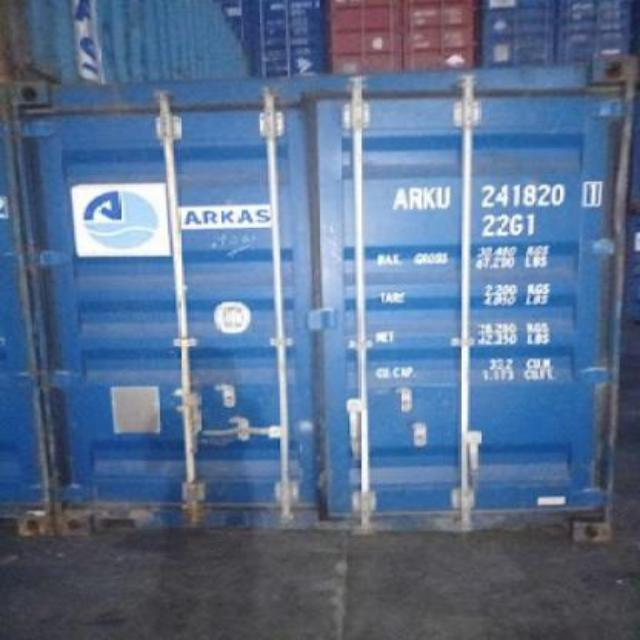0: (552, 182, 566, 205)
1: (586, 180, 600, 203), (512, 183, 522, 207)
2: (480, 184, 496, 208), (538, 183, 552, 207)
4: (496, 182, 509, 205)
8: (522, 182, 538, 208)
A: (390, 186, 410, 210)
K: (420, 186, 438, 208)
R: (408, 186, 422, 210)
U: (436, 186, 452, 207)
